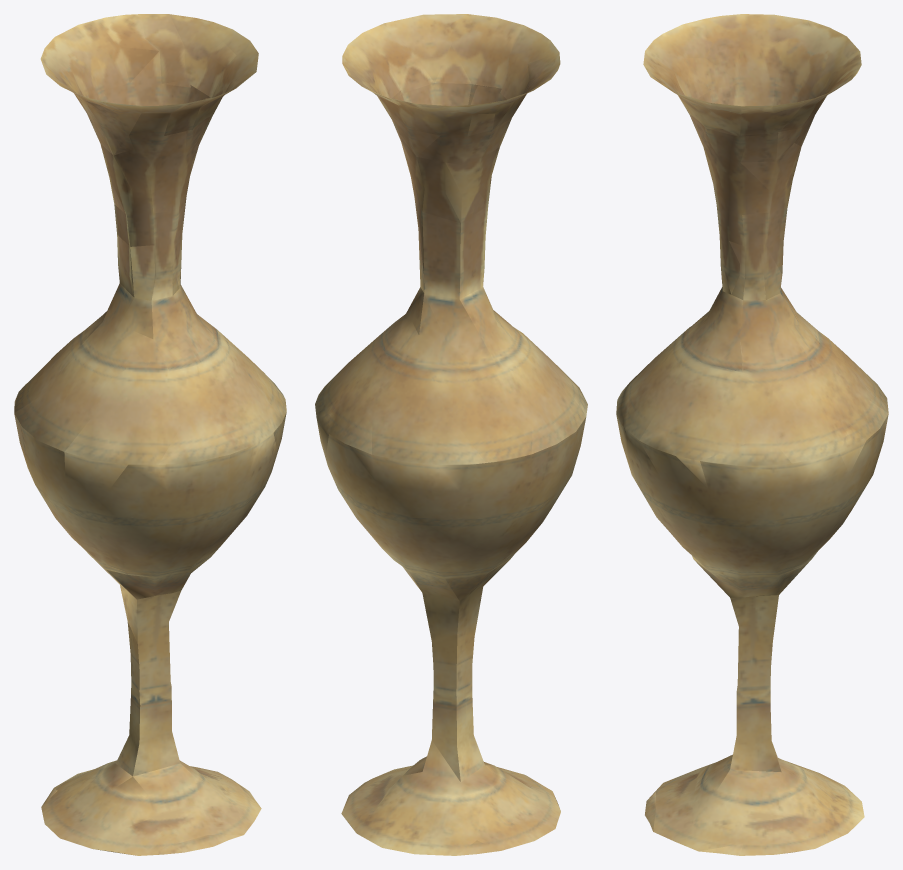
Rendered from vase_brass.glb.
3 views of the same model, side by side, from view 1: azimuth 30°, elevation 25°; view 2: azimuth 150°, elevation 25°; view 3: azimuth 270°, elevation 25° (orthographic).
Parts seen in each view (by area): view 1: mesh; view 2: mesh; view 3: mesh.
Part boxes in pixels (<box>): mesh: <box>14,14,286,855</box>; mesh: <box>315,14,587,855</box>; mesh: <box>616,14,888,855</box>.
Size of the model in its own units: 0.2278 by 0.6925 by 0.2277.
1 material, 1 textured.
